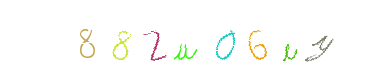0: (185, 0, 265, 80)
2: (154, 0, 234, 80)
6: (187, 0, 267, 80)
8: (97, 0, 177, 80), (116, 0, 196, 80)
E: (217, 0, 297, 80)
U: (164, 0, 244, 80)
Y: (268, 0, 348, 80)
